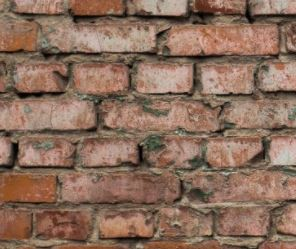brick: (100, 100, 220, 137), (163, 25, 279, 58), (61, 170, 178, 201), (42, 25, 160, 52), (1, 98, 98, 130), (207, 171, 294, 200), (223, 101, 296, 131), (97, 205, 158, 239), (134, 62, 194, 96), (197, 62, 255, 97), (70, 60, 131, 91), (15, 136, 74, 168), (1, 173, 59, 205), (34, 208, 97, 236), (81, 137, 140, 166), (143, 137, 205, 164), (161, 207, 215, 236), (12, 60, 59, 93), (217, 207, 274, 234), (209, 138, 265, 164), (1, 19, 38, 52), (135, 1, 188, 20), (1, 209, 35, 236), (69, 1, 125, 17), (193, 1, 245, 18), (268, 135, 296, 164)
